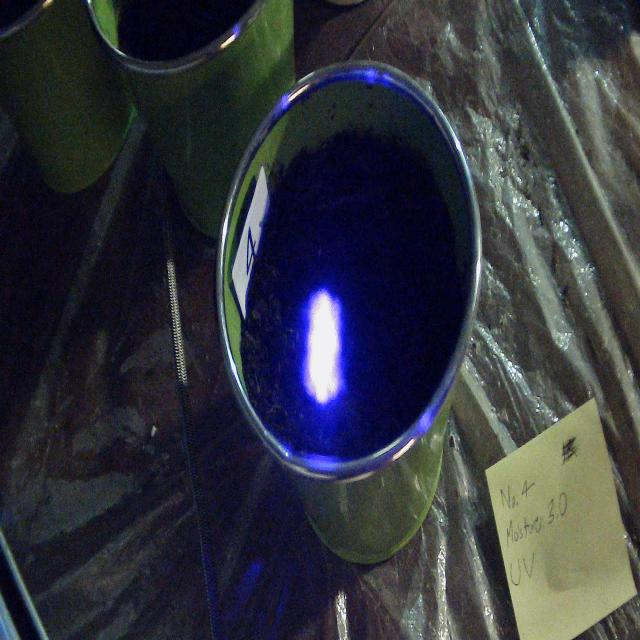soil-moisture-3.0: (302, 290, 348, 404)
